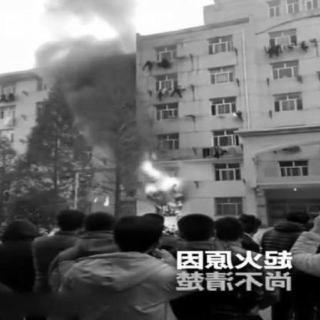Fire: (129, 157, 197, 213)
